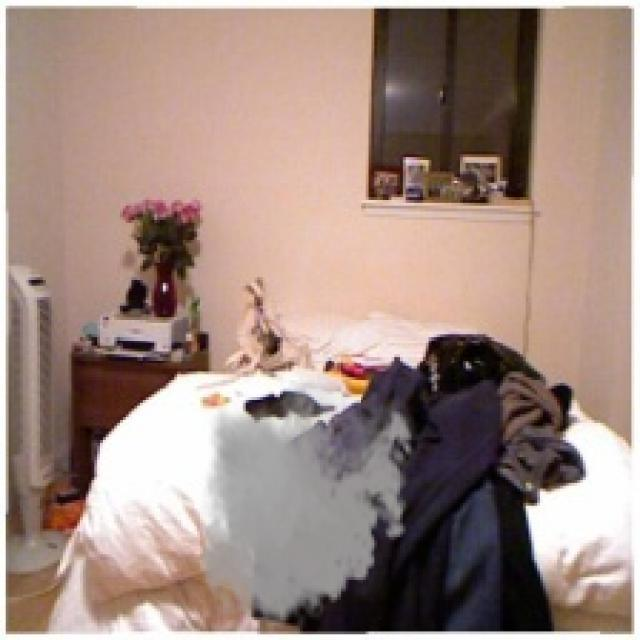Smoke: (191, 366, 420, 638)
